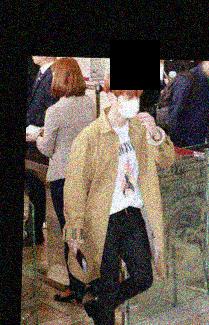with_mask: (116, 95, 140, 118)
